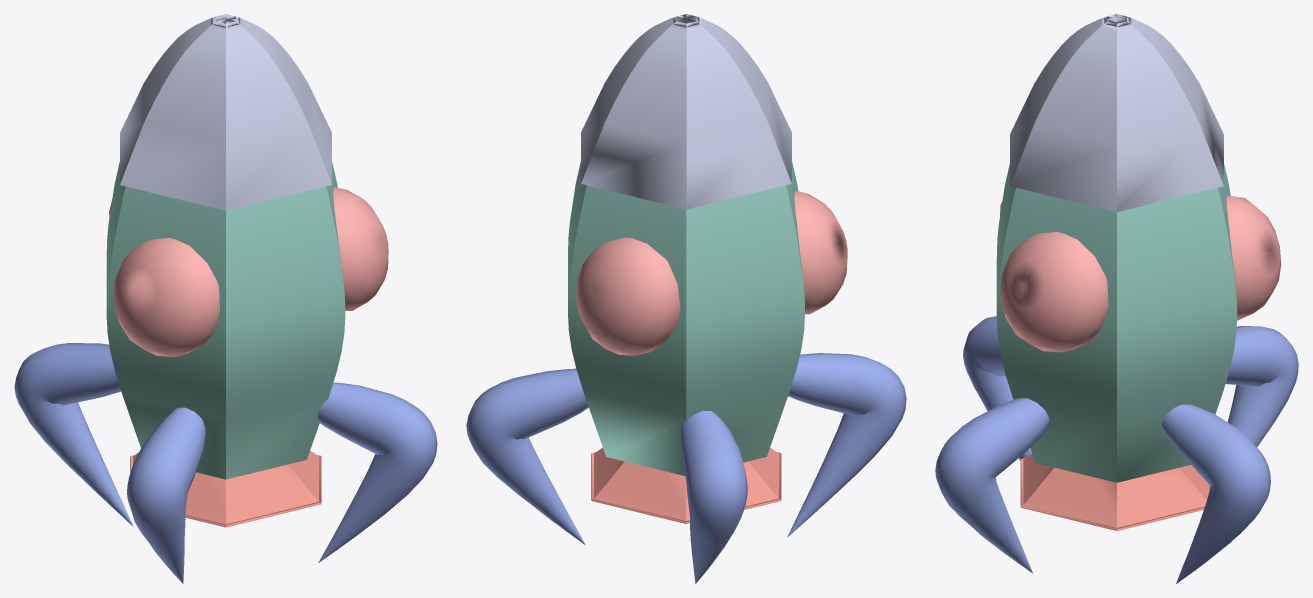
The model's file is Rocket.fbx.
3 renders of one model, left to right at view 1: azimuth 30°, elevation 25°; view 2: azimuth 150°, elevation 25°; view 3: azimuth 270°, elevation 25°, orthographic.
Parts seen in each view (by area): view 1: rocket; view 2: rocket; view 3: rocket.
Boxes of the visible parts, <box> form: rocket: <box>14,14,437,583</box>; rocket: <box>466,14,906,583</box>; rocket: <box>935,14,1298,583</box>.
Bounding box in the file's own units: 118 × 190 × 118.
